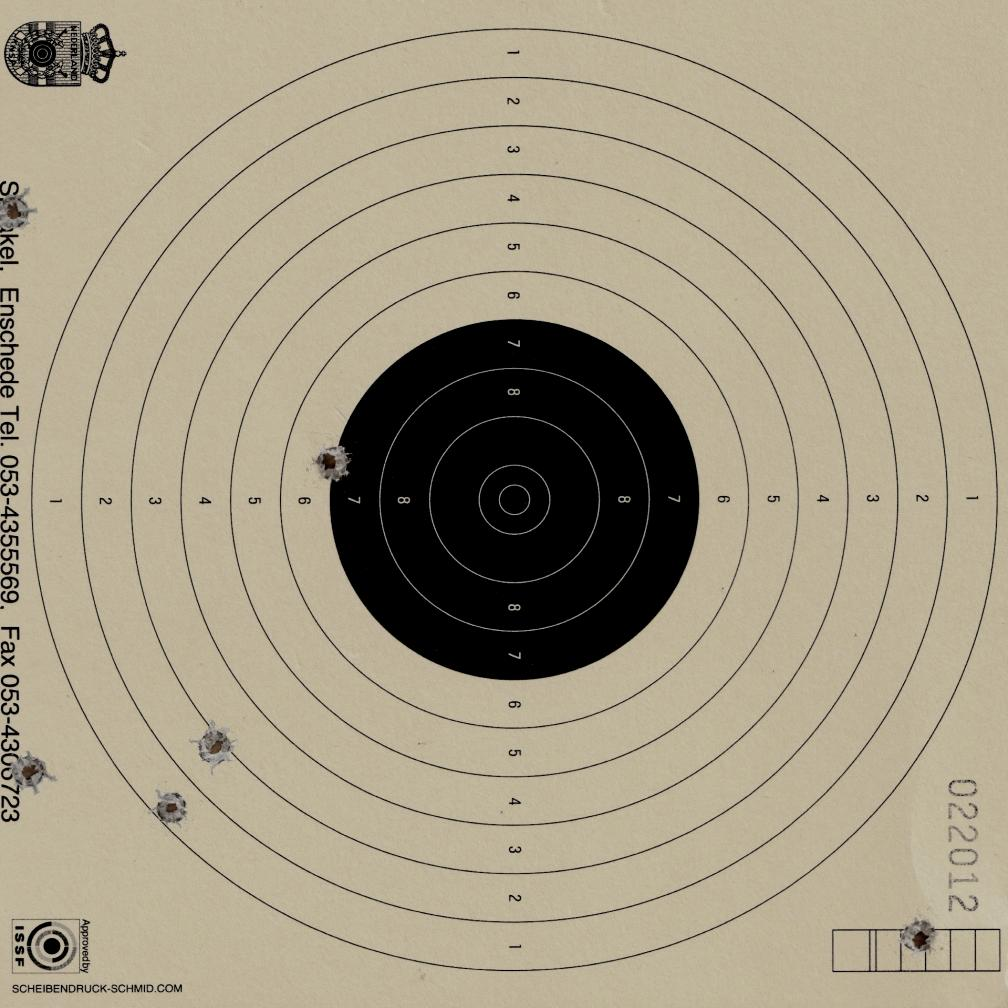0: (6, 750, 56, 801), (0, 183, 44, 238), (895, 918, 943, 957)
1: (143, 785, 195, 831)
2: (183, 719, 241, 776)
7: (308, 439, 356, 485)
Target: (26, 22, 1004, 976)
black_contour: (330, 318, 697, 679)
